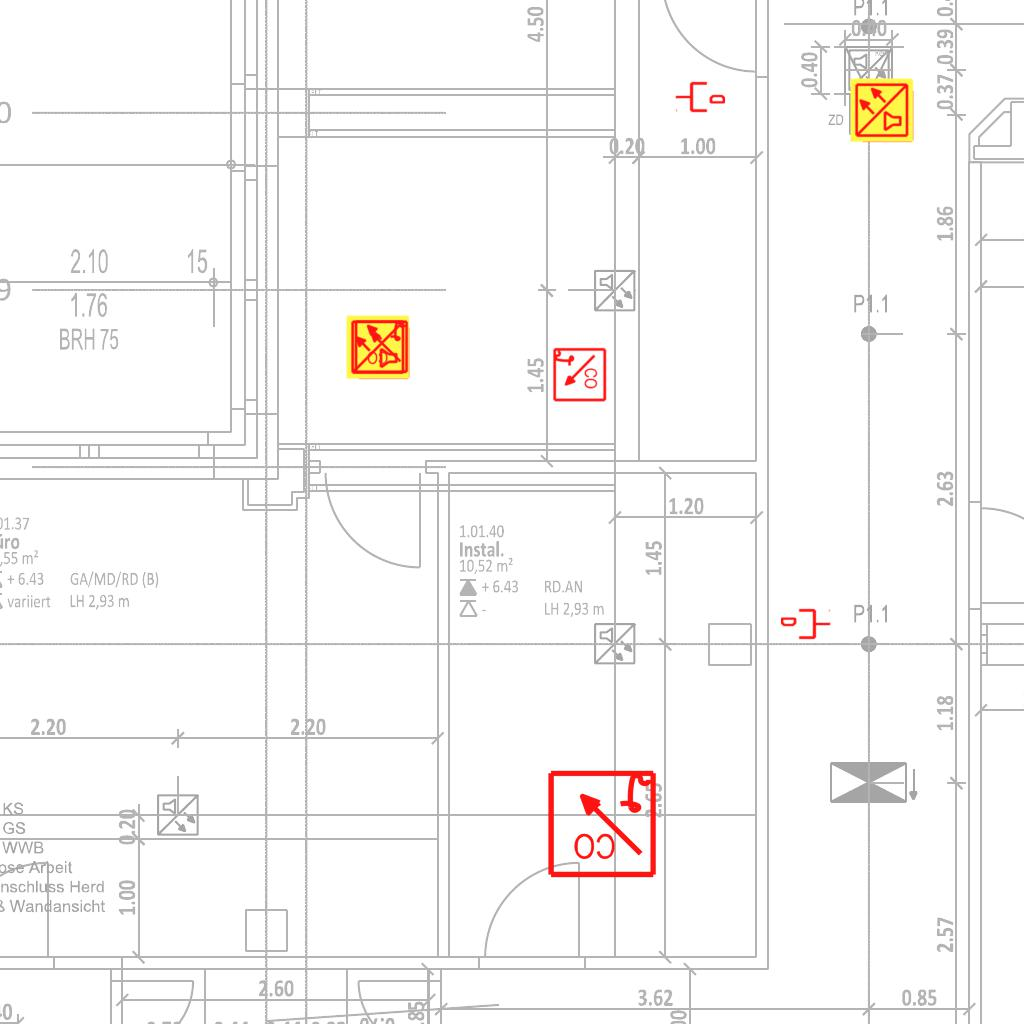Datenanschluss_einfach: (781, 607, 831, 641), (675, 80, 725, 114)
OKW_Multisensormelder_(Kombination_optischer_Rauch-Kahlenmonoxid_Waerme-Melder): (345, 314, 411, 380), (849, 77, 915, 143)
ROA_Rauchmelder_optisch_mit_Signalgeber_(Sockelsirene): (545, 766, 658, 879), (551, 347, 607, 403), (353, 318, 409, 374)
